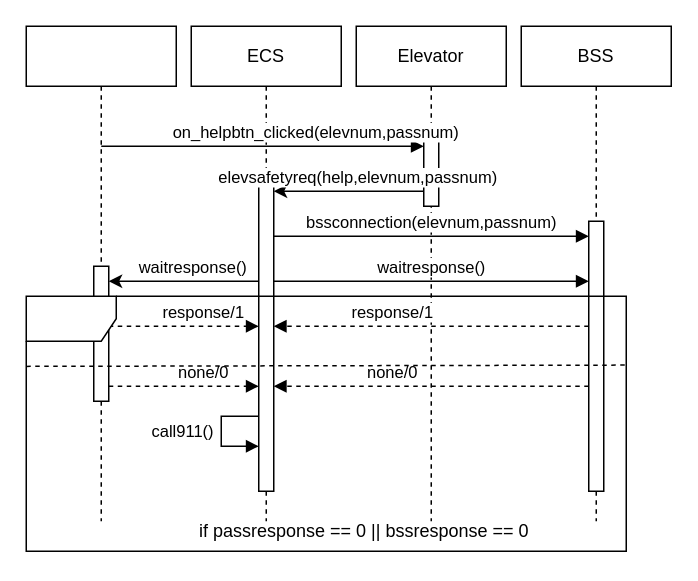
Image size: 698x581. Some labels were removed from this diagram. The box of each missing label's shape, as (x1, y1, x2, y2) in pixels:
alt: (25, 295, 626, 551)
Passenger: (25, 25, 176, 521)
